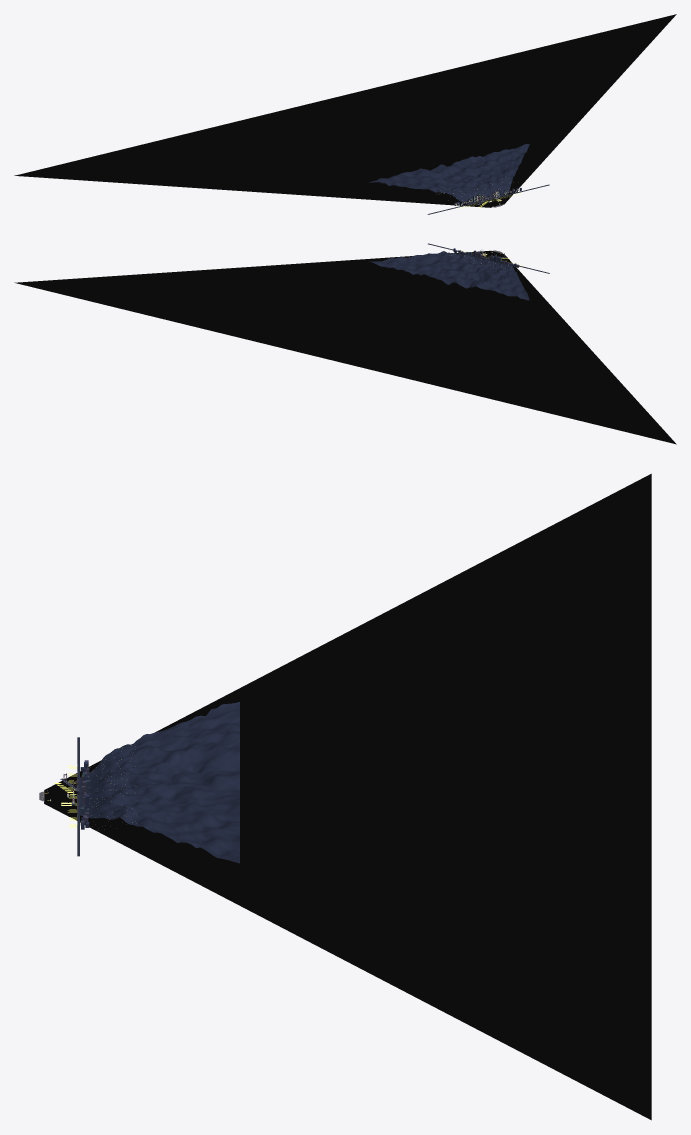
Rendered from backdrop_6.glb.
3 renders of one model, top to bottom at view 1: azimuth 30°, elevation 25°; view 2: azimuth 150°, elevation 25°; view 3: azimuth 270°, elevation 25°, orthographic. The views are drawn at different scales.
Visible parts, largest first — view 1: mid_sea, mid_hill; view 2: mid_sea, mid_hill; view 3: mid_sea, mid_hill.
Boxes of the visible parts, x1,y1,x2,y2 form: mid_sea: (14,14,676,207); mid_hill: (368,144,549,214); mid_sea: (14,250,676,444); mid_hill: (368,243,549,300); mid_sea: (44,473,651,1120); mid_hill: (77,702,239,863).
Size of the model in its own units: 3273 by 48.28 by 1310.
